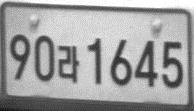0: (34, 35, 55, 81)
1: (87, 36, 102, 85)
4: (133, 39, 159, 87)
5: (161, 40, 183, 89)
6: (108, 38, 132, 86)
9: (9, 33, 30, 81)
라: (56, 44, 81, 85)
